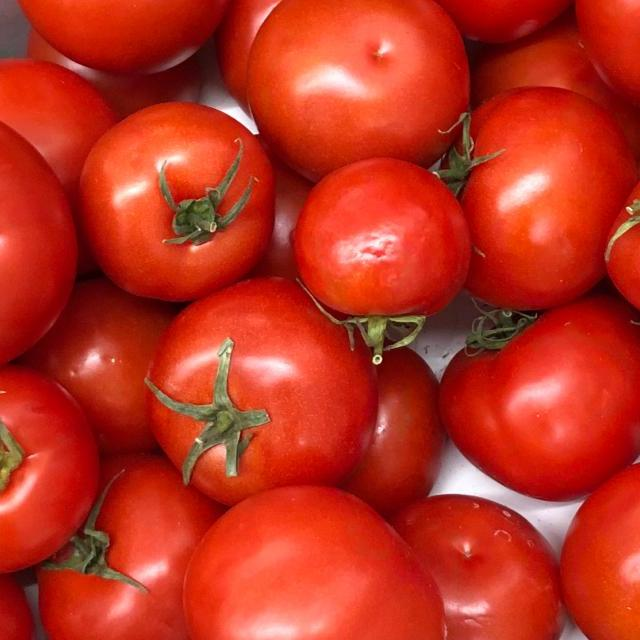tomato: (108, 285, 390, 498), (72, 92, 290, 305), (180, 470, 447, 640), (285, 152, 480, 362), (222, 0, 482, 157), (0, 342, 127, 572), (527, 422, 640, 640), (0, 0, 252, 72)
